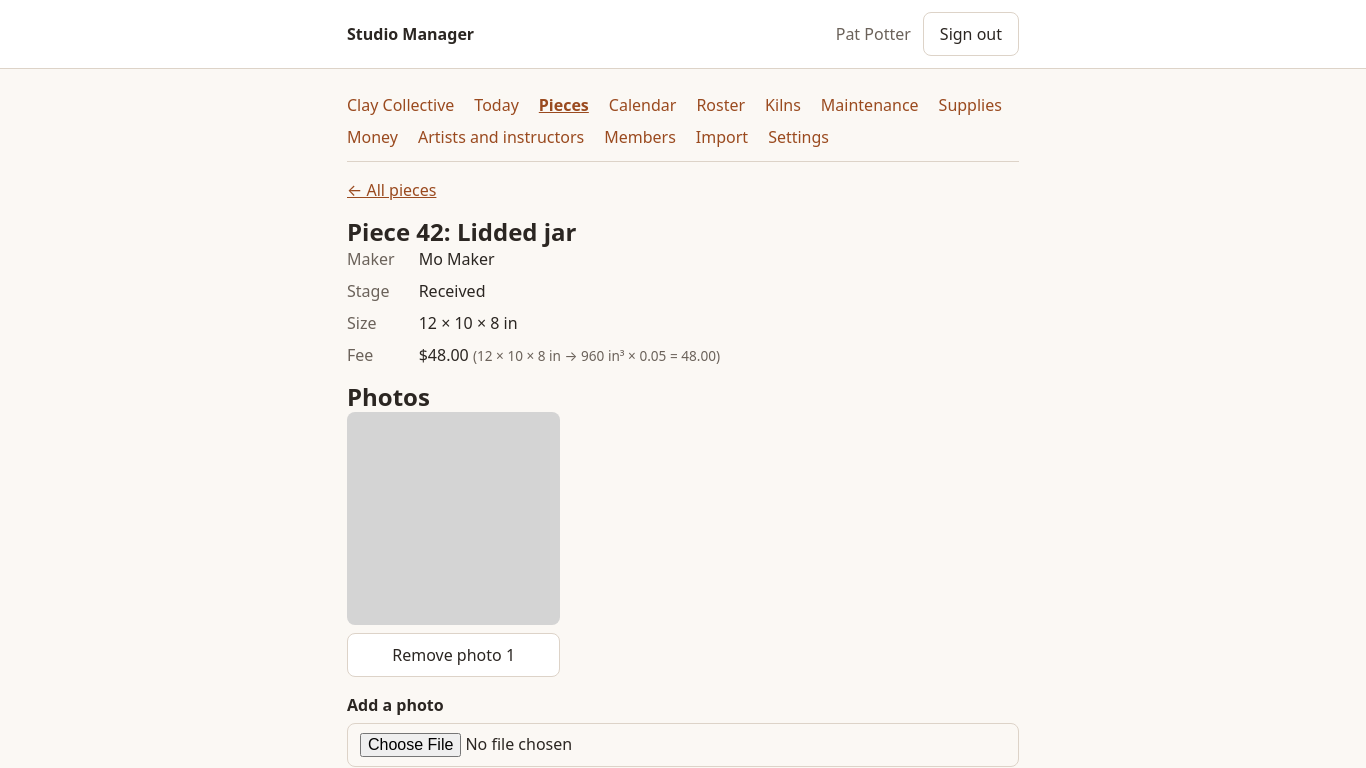
Test: piece photos › shows a thumbnail on the shelf and lets staff remove a photo
Click the button "Remove photo 1": (454, 655) top-left (347, 633), bottom-right (560, 677)
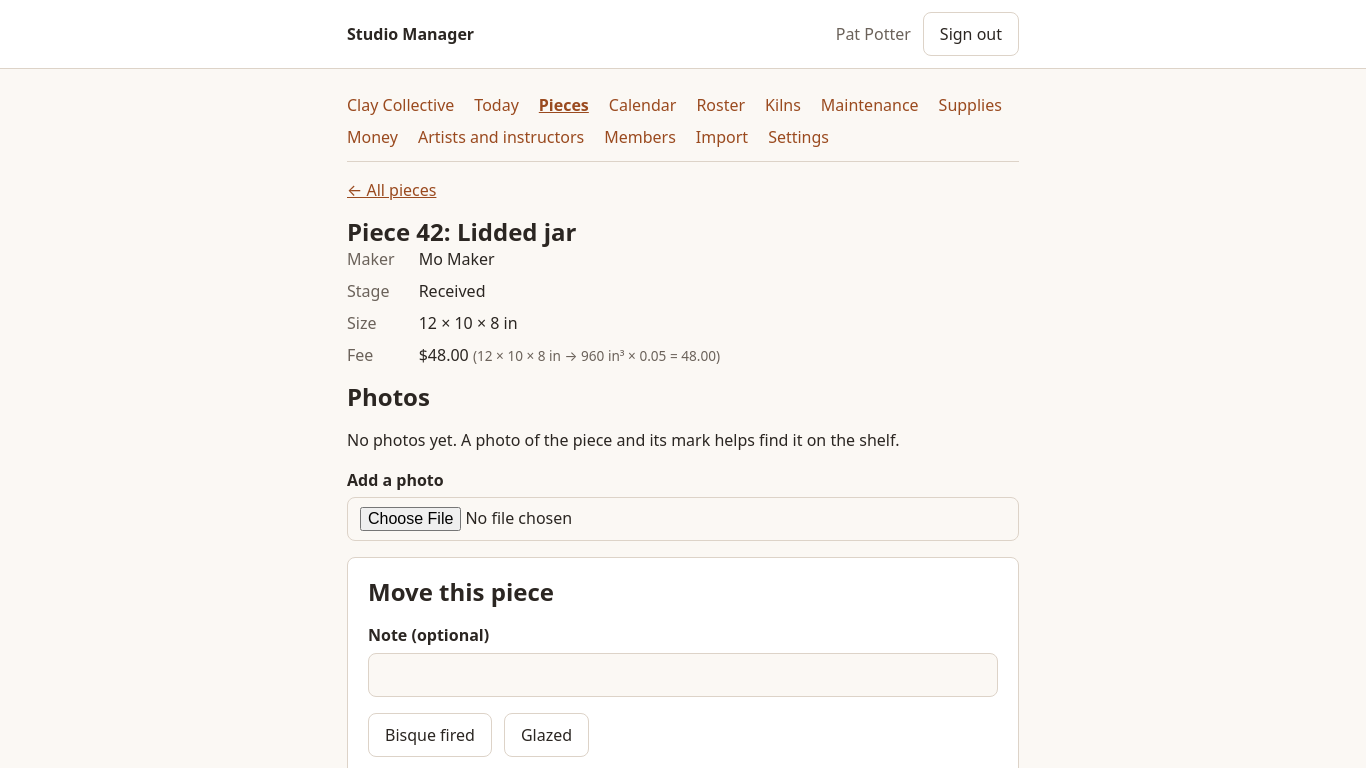
Now the text "No photos yet" is shown, box top-left (347, 429), bottom-right (899, 451)
